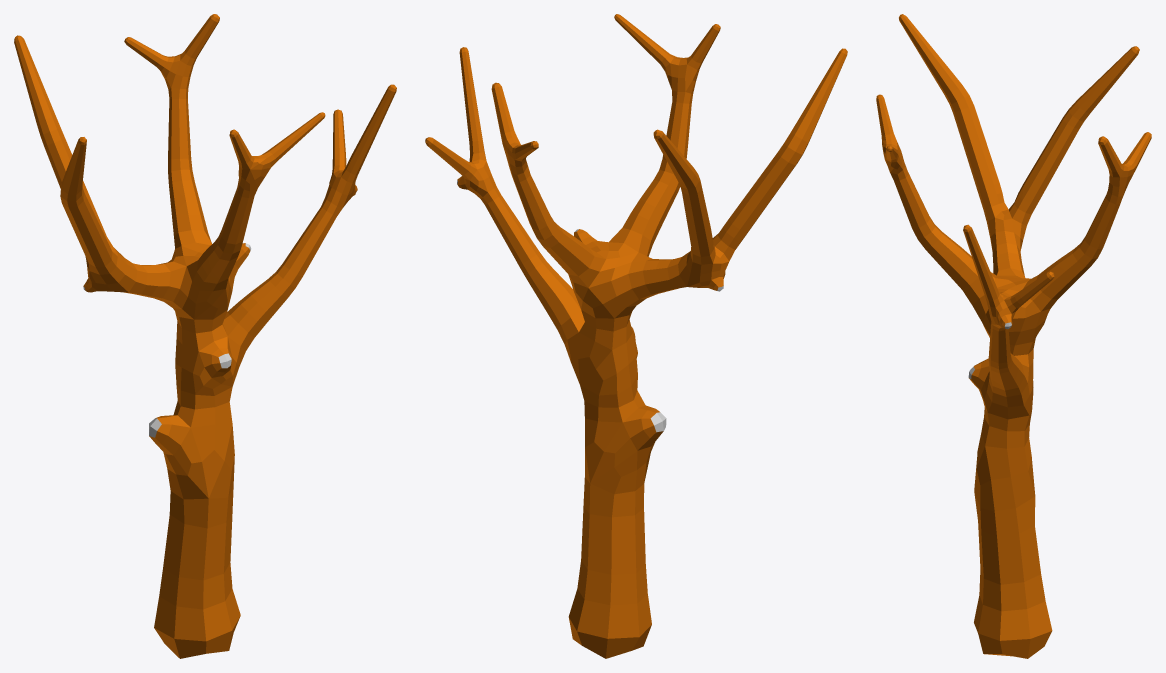
The model's file is DeadTree02.fbx.
3 views of the same model, side by side, from view 1: azimuth 30°, elevation 25°; view 2: azimuth 150°, elevation 25°; view 3: azimuth 270°, elevation 25° (orthographic). The views are drawn at different scales.
Visible parts, largest first — view 1: Plane; view 2: Plane; view 3: Plane.
Part boxes in pixels (x1,y1,x2,y2): Plane: (14, 14, 396, 658); Plane: (425, 14, 847, 658); Plane: (876, 14, 1151, 658).
Size of the model in its own units: 304 by 495 by 220.
